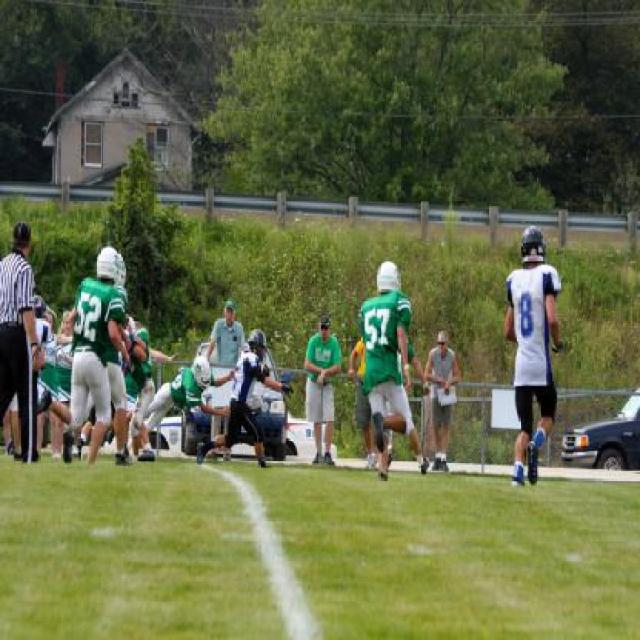Person: (0, 221, 295, 476), (502, 242, 562, 500), (360, 258, 408, 484), (304, 316, 342, 464), (428, 327, 462, 476), (345, 336, 381, 470)
